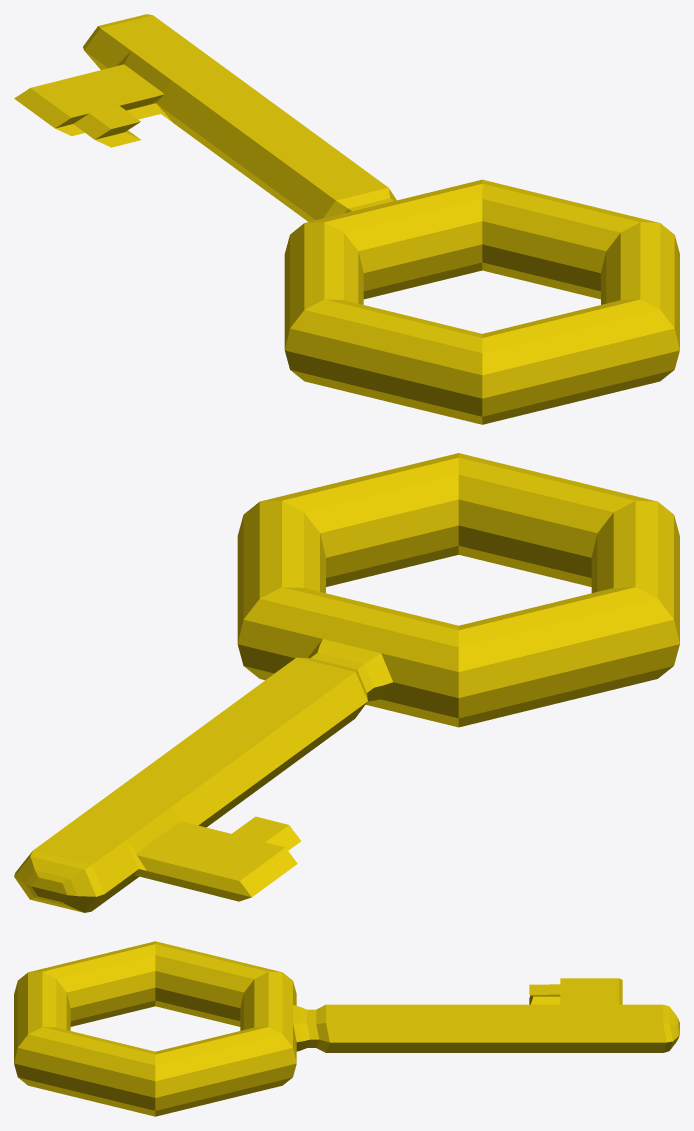
Rendered from key.fbx.
3 views of the same model, one above another, from view 1: azimuth 30°, elevation 25°; view 2: azimuth 150°, elevation 25°; view 3: azimuth 270°, elevation 25° (orthographic). The views are drawn at different scales.
Visible parts, largest first — view 1: Torus; view 2: Torus; view 3: Torus.
Boxes of the visible parts, <box> form: Torus: <box>14,14,679,424</box>; Torus: <box>14,453,679,912</box>; Torus: <box>14,941,679,1116</box>.
Size of the model in its own units: 250 by 50 by 510.
